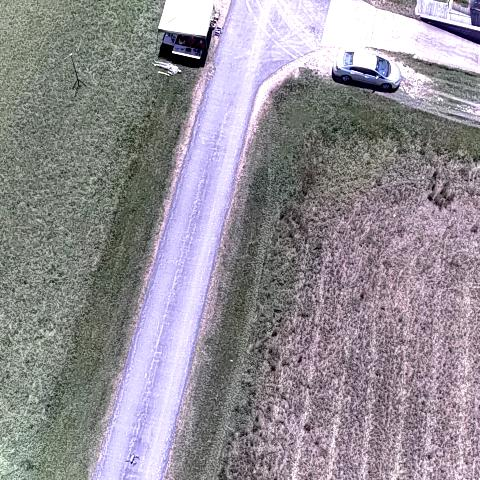person: (149, 59, 186, 74)
